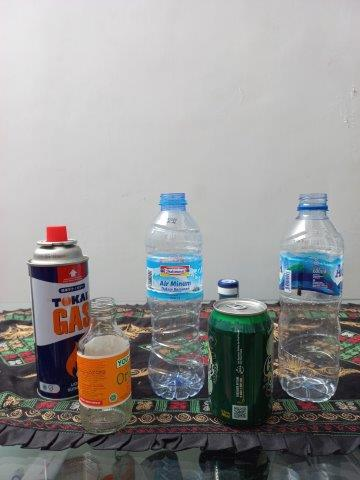botolkaca: (77, 300, 130, 435)
botolplastik: (279, 194, 344, 405), (149, 194, 202, 400)
kaleng: (30, 226, 92, 402), (208, 300, 275, 427)
